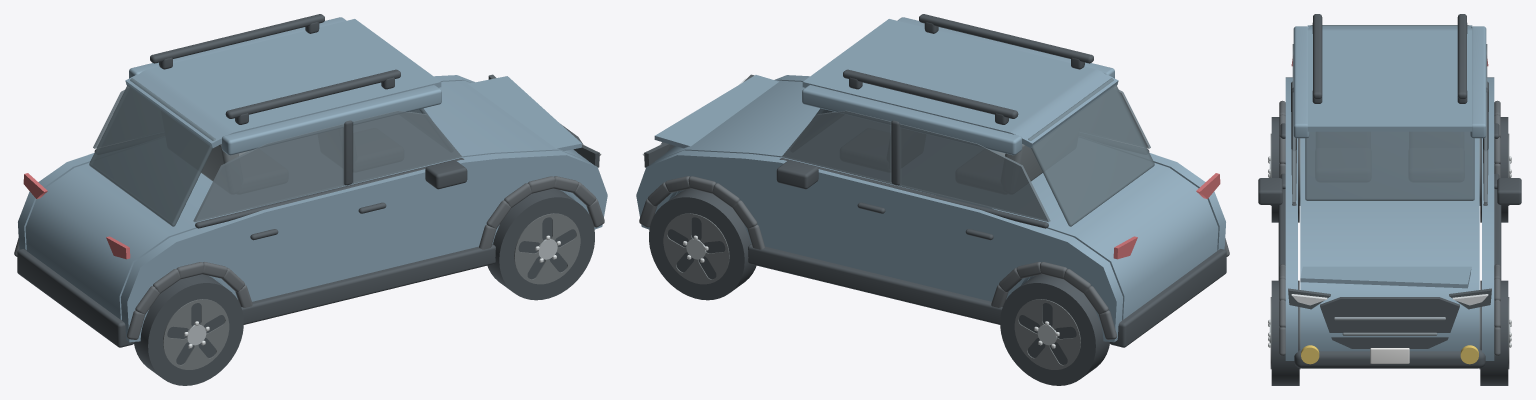
The picture shows the model from 3 angles, left to right: view 1: azimuth 30°, elevation 25°; view 2: azimuth 150°, elevation 25°; view 3: azimuth 270°, elevation 25°; orthographic projection. The views are drawn at different scales.
Parts seen in each view (by area): view 1: body_side_l, body_center, roof_sheet, rear_glass, wheel_rear_right, wheel_front_right, rear_windowL, front_windowL, rockerL, left roof edge, rear_bumper, hood_sheet (+8 smaller); view 2: body_side_r, body_center, roof_sheet, rear_glass, wheel_rear_left, wheel_front_left, rear_windowR, front_windowR, rockerR, right roof edge, rear_bumper, hood_sheet (+8 smaller); view 3: body_center, roof_sheet, windshield, grille, hood_sheet, body_side_l, body_side_r, front_bumper, wheel_front_left, wheel_front_right, left roof edge, right roof edge (+22 smaller).
Part boxes in pixels (x1=…): body_side_l: x1=121, y1=150, x2=607, y2=342; body_center: x1=25, y1=80, x2=588, y2=319; roof_sheet: x1=125, y1=19, x2=441, y2=147; rear_glass: x1=89, y1=78, x2=215, y2=226; wheel_rear_right: x1=134, y1=274, x2=243, y2=385; wheel_front_right: x1=487, y1=188, x2=594, y2=300; rear_windowL: x1=193, y1=123, x2=344, y2=222; front_windowL: x1=352, y1=110, x2=461, y2=183; rockerL: x1=241, y1=244, x2=495, y2=324; left roof edge: x1=221, y1=85, x2=441, y2=155; rear_bumper: x1=17, y1=249, x2=134, y2=347; hood_sheet: x1=468, y1=76, x2=581, y2=150; body_side_r: x1=636, y1=150, x2=1122, y2=342; body_center: x1=655, y1=80, x2=1218, y2=319; roof_sheet: x1=802, y1=19, x2=1118, y2=147; rear_glass: x1=1028, y1=78, x2=1154, y2=226; wheel_rear_left: x1=1000, y1=274, x2=1109, y2=385; wheel_front_left: x1=649, y1=188, x2=756, y2=300; rear_windowR: x1=899, y1=123, x2=1050, y2=222; front_windowR: x1=782, y1=110, x2=891, y2=183; rockerR: x1=748, y1=244, x2=1002, y2=324; right roof edge: x1=802, y1=85, x2=1022, y2=155; rear_bumper: x1=1109, y1=249, x2=1226, y2=347; hood_sheet: x1=654, y1=75, x2=778, y2=148; body_center: x1=1300, y1=138, x2=1479, y2=351; roof_sheet: x1=1307, y1=25, x2=1472, y2=131; windshield: x1=1305, y1=131, x2=1474, y2=200; grille: x1=1320, y1=297, x2=1459, y2=348; hood_sheet: x1=1300, y1=266, x2=1471, y2=288; body_side_l: x1=1285, y1=77, x2=1297, y2=360; body_side_r: x1=1482, y1=77, x2=1494, y2=360; front_bumper: x1=1294, y1=349, x2=1485, y2=368; wheel_front_left: x1=1479, y1=280, x2=1511, y2=385; wheel_front_right: x1=1268, y1=280, x2=1300, y2=385; left roof edge: x1=1293, y1=26, x2=1309, y2=138; right roof edge: x1=1470, y1=26, x2=1486, y2=138.
Size of the model in its own units: 4.5 by 2.12 by 2.2.
